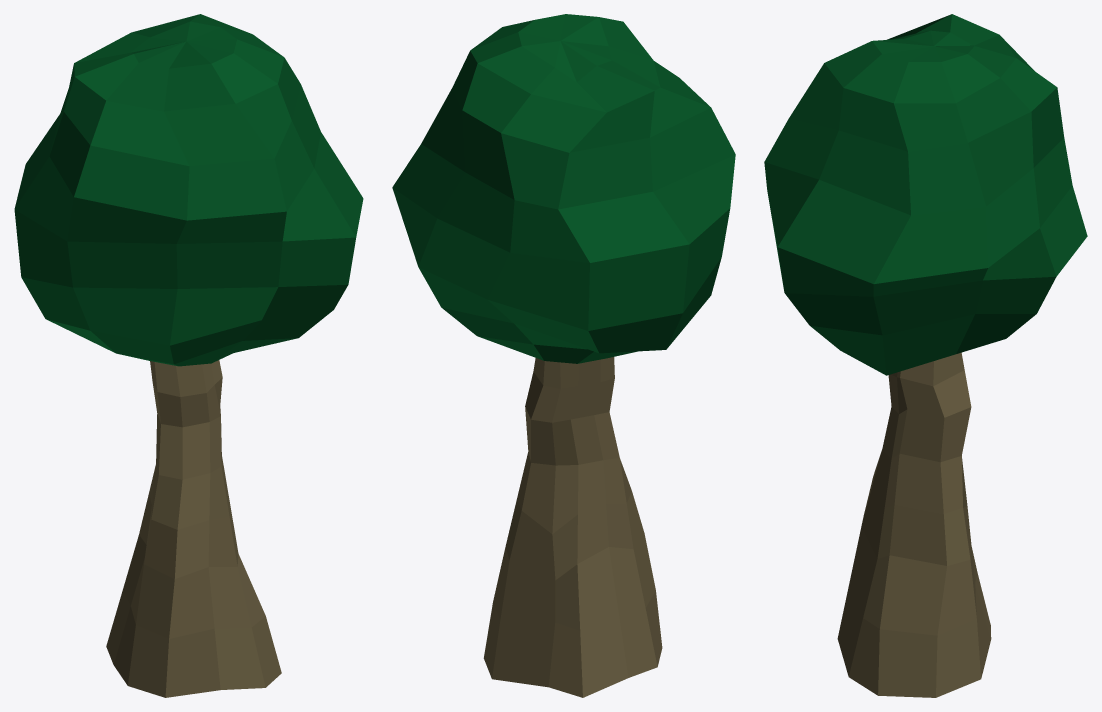
The model's file is Drvo1.fbx.
The picture shows the model from 3 angles, left to right: view 1: azimuth 30°, elevation 25°; view 2: azimuth 150°, elevation 25°; view 3: azimuth 270°, elevation 25°; orthographic projection. The views are drawn at different scales.
Parts seen in each view (by area): view 1: Drvo1; view 2: Drvo1; view 3: Drvo1.
Part boxes in pixels (x1,y1,x2,y2): Drvo1: (14,14,363,697); Drvo1: (392,14,735,697); Drvo1: (764,14,1087,697).
Size of the model in its own units: 418 by 850 by 402.
